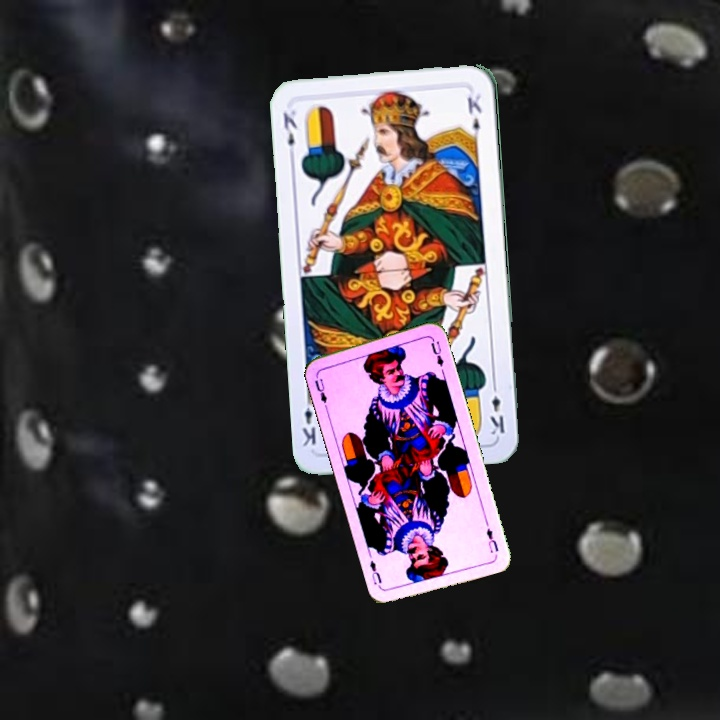EK: (485, 378, 507, 438), (279, 107, 300, 160)
EU: (311, 375, 330, 410), (482, 524, 501, 556)
